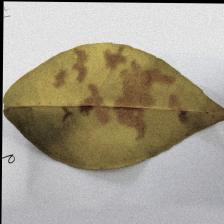black spot: (48, 52, 193, 135)
